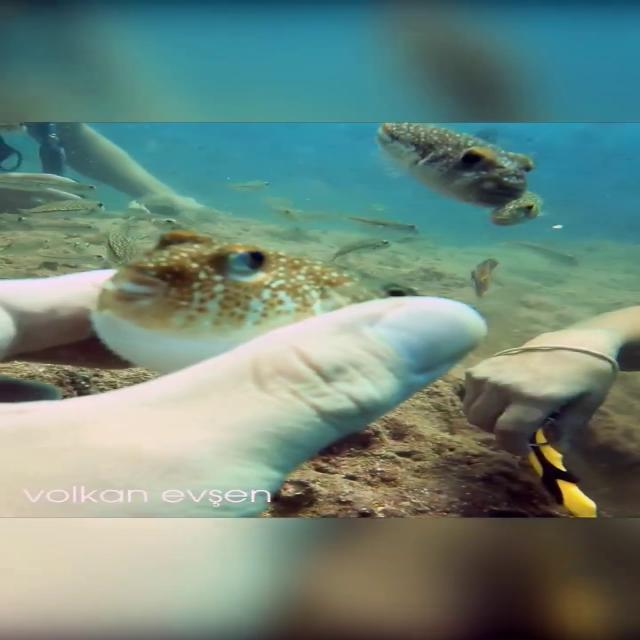Balon Baligi: (92, 231, 420, 376), (378, 121, 534, 206), (491, 190, 548, 225), (331, 238, 391, 266), (344, 215, 420, 237), (19, 201, 106, 217)
